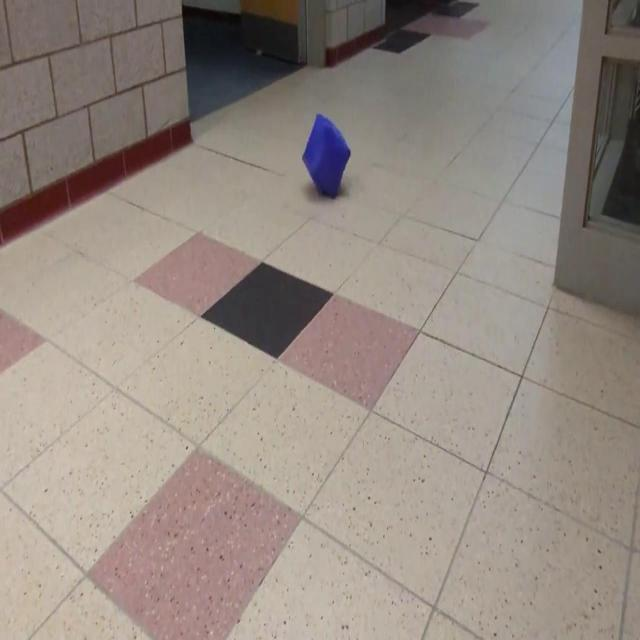frc_cube: (303, 112, 351, 200)
